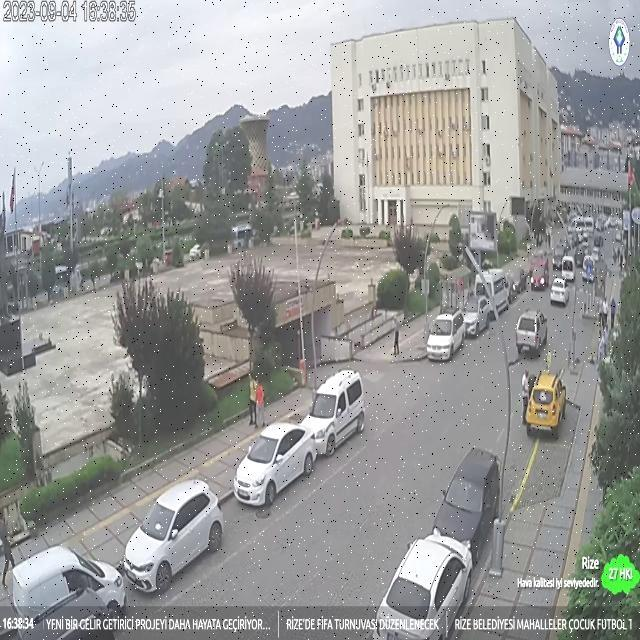Car: (120, 476, 224, 593), (376, 534, 476, 640), (10, 546, 127, 636), (432, 448, 502, 564), (232, 423, 318, 506), (301, 371, 364, 456), (524, 370, 568, 438), (426, 312, 465, 361), (515, 309, 548, 357), (461, 296, 492, 336), (549, 277, 570, 306), (560, 256, 576, 282), (508, 274, 522, 302), (552, 251, 563, 271), (593, 234, 604, 246), (591, 247, 600, 261)
